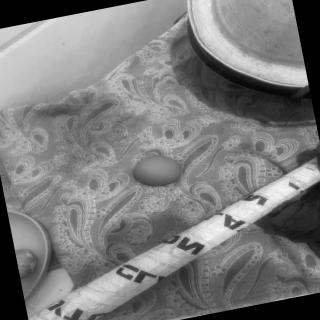Telur: (131, 150, 186, 192)
